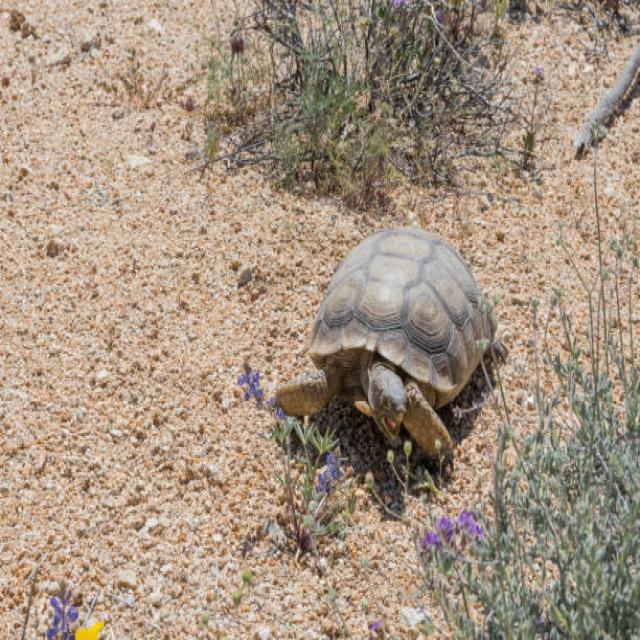tortoise: (260, 209, 502, 488), (404, 373, 476, 479), (364, 359, 415, 445), (283, 346, 325, 428)
